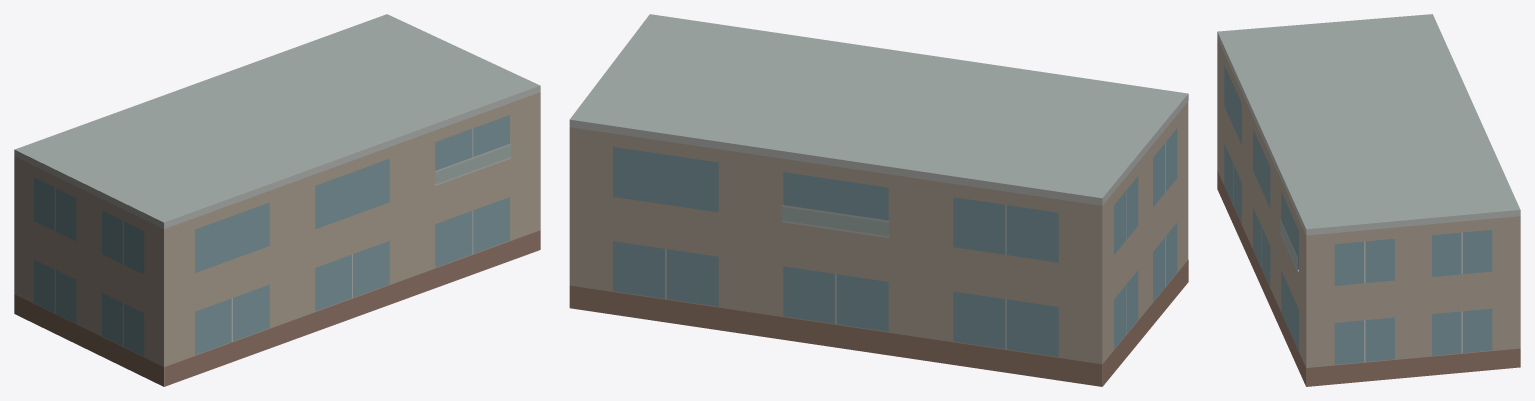
Rendered from survey-upis-32708116.glb.
The picture shows the model from 3 angles, left to right: view 1: azimuth 30°, elevation 25°; view 2: azimuth 150°, elevation 25°; view 3: azimuth 270°, elevation 25°; orthographic projection. The views are drawn at different scales.
Visible parts, largest first — view 1: survey-upis-32708116.tmp; view 2: survey-upis-32708116.tmp; view 3: survey-upis-32708116.tmp.
Part boxes in pixels (x1,y1,x2,y2): survey-upis-32708116.tmp: [14, 14, 540, 386]; survey-upis-32708116.tmp: [569, 14, 1188, 386]; survey-upis-32708116.tmp: [1217, 14, 1520, 386].
Bounding box in the file's own units: 17.9 × 6.1 × 10.65.
